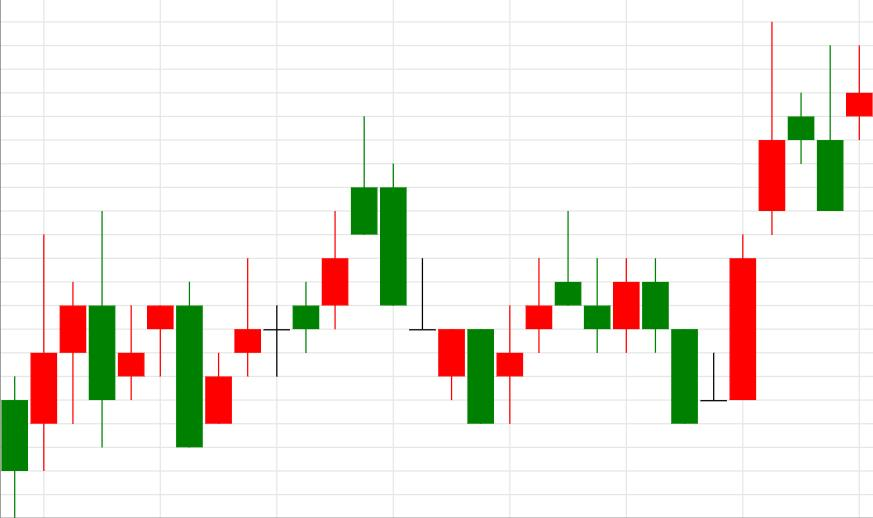shooting_star_fall: (205, 116, 377, 425)
